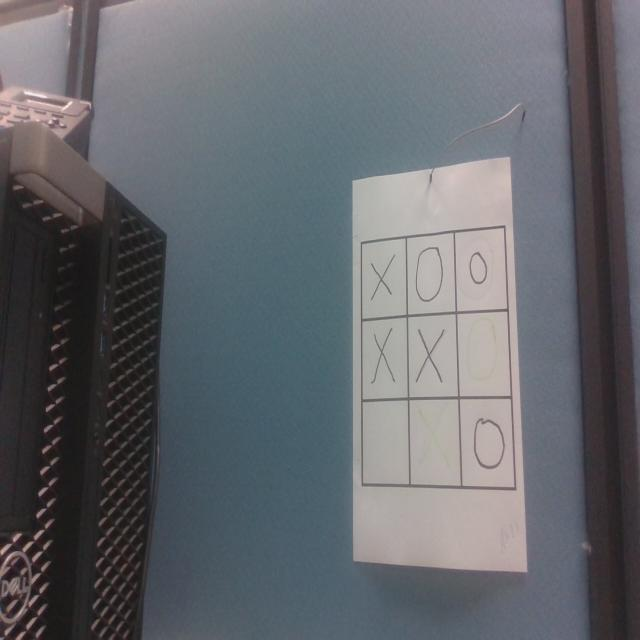null: (362, 400, 408, 486)
o: (465, 316, 502, 383), (473, 417, 506, 469), (414, 246, 444, 303), (468, 250, 489, 286)
table: (361, 226, 516, 496)
x: (415, 406, 451, 467), (414, 327, 444, 384), (371, 329, 396, 384), (369, 255, 396, 300)
